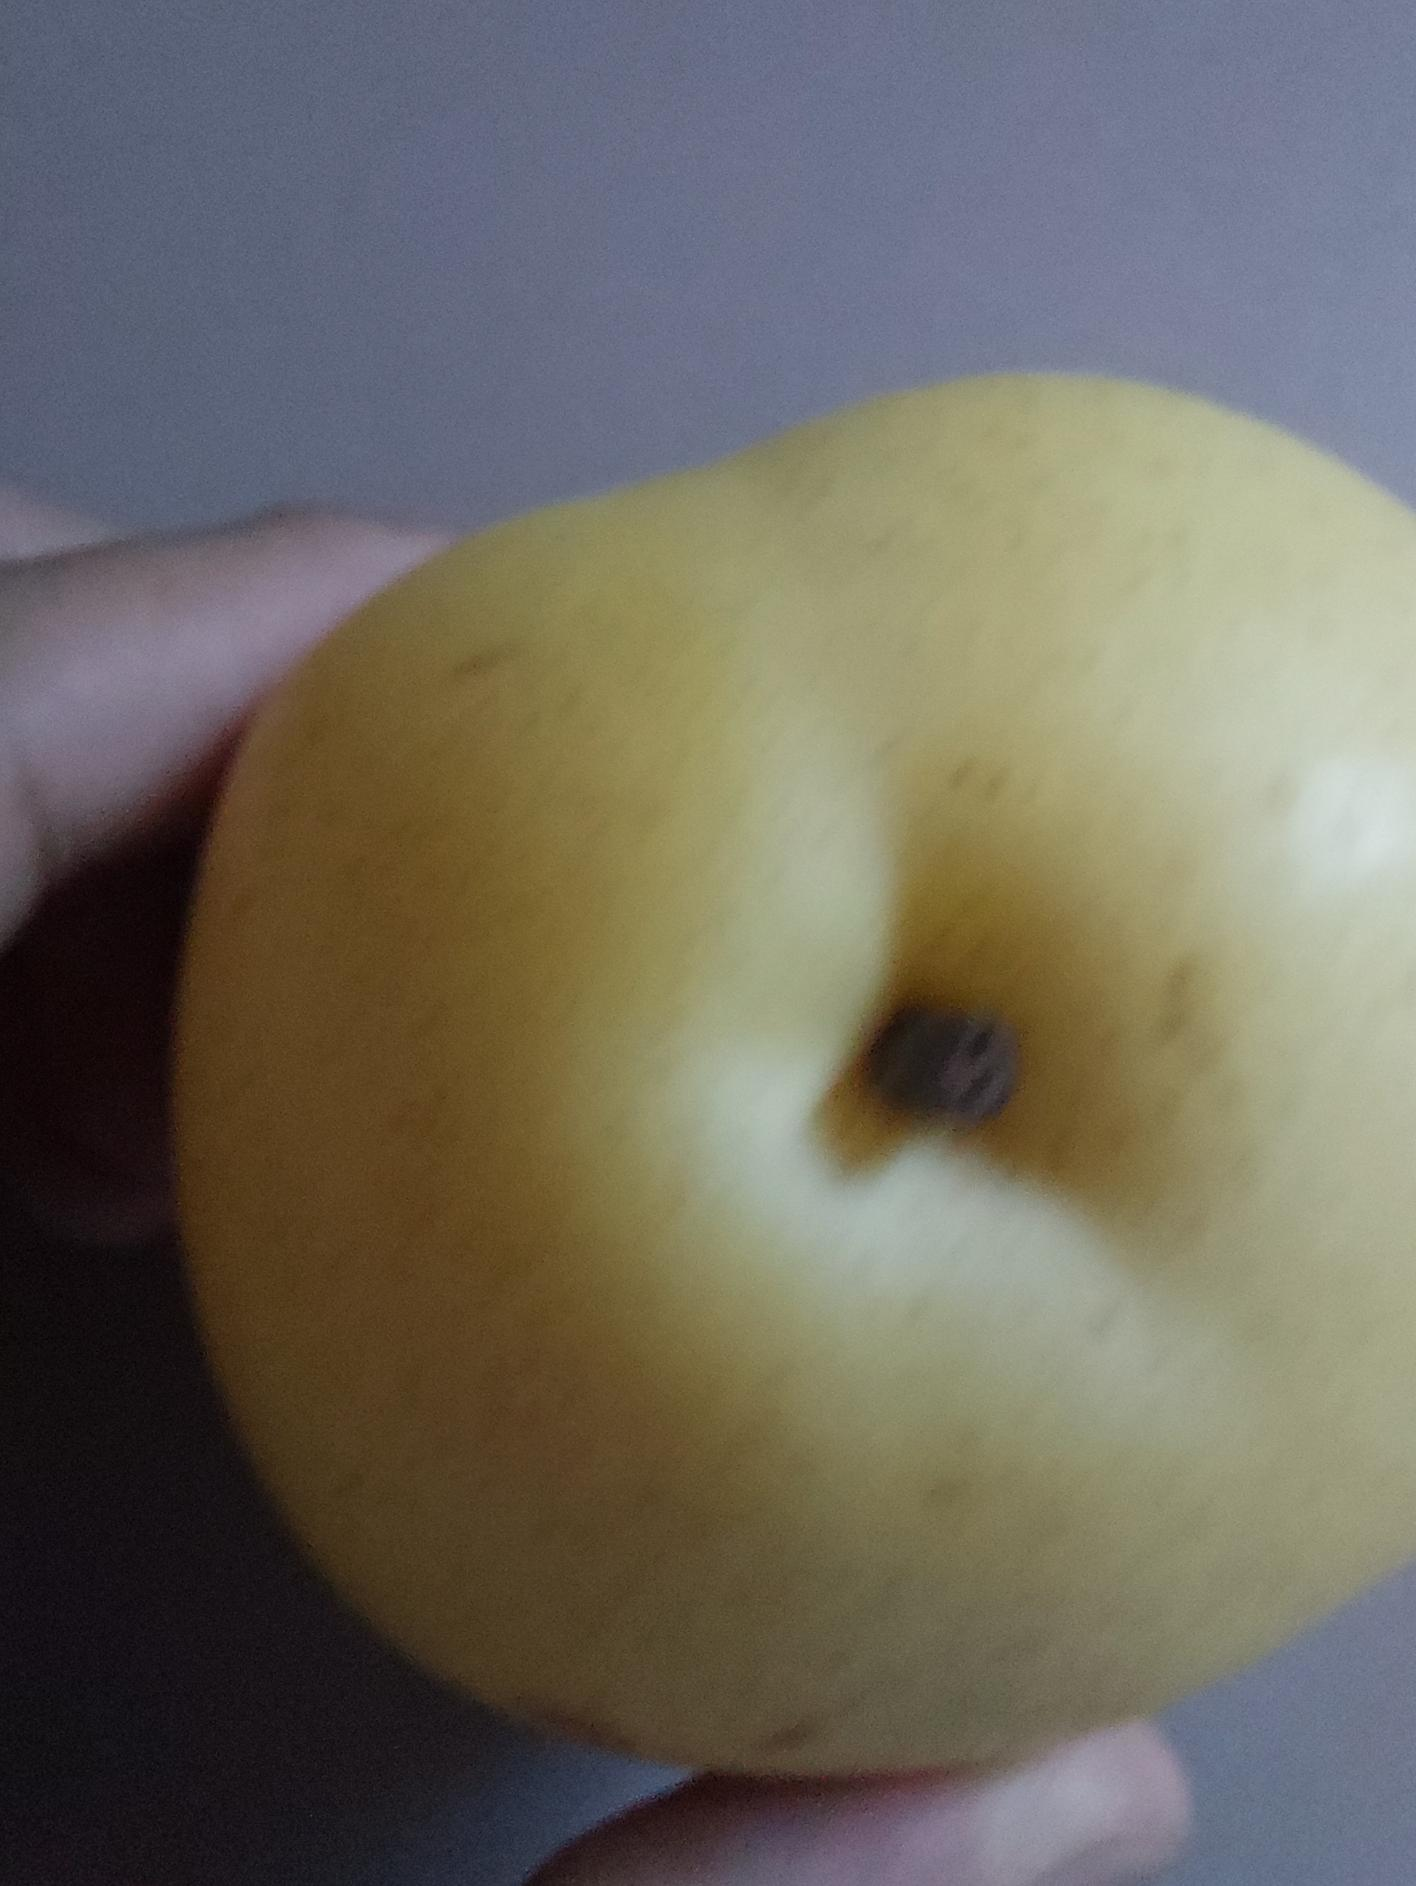Good Pear: (157, 392, 1416, 1773)
